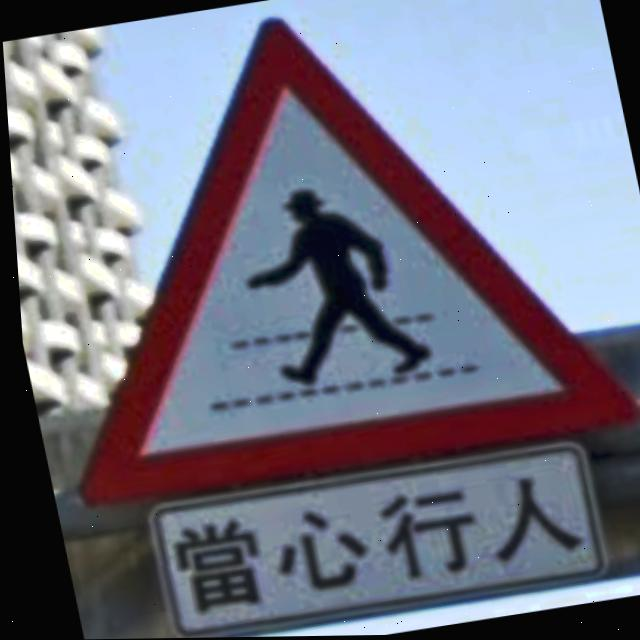pedestriancross: (71, 19, 636, 510)
